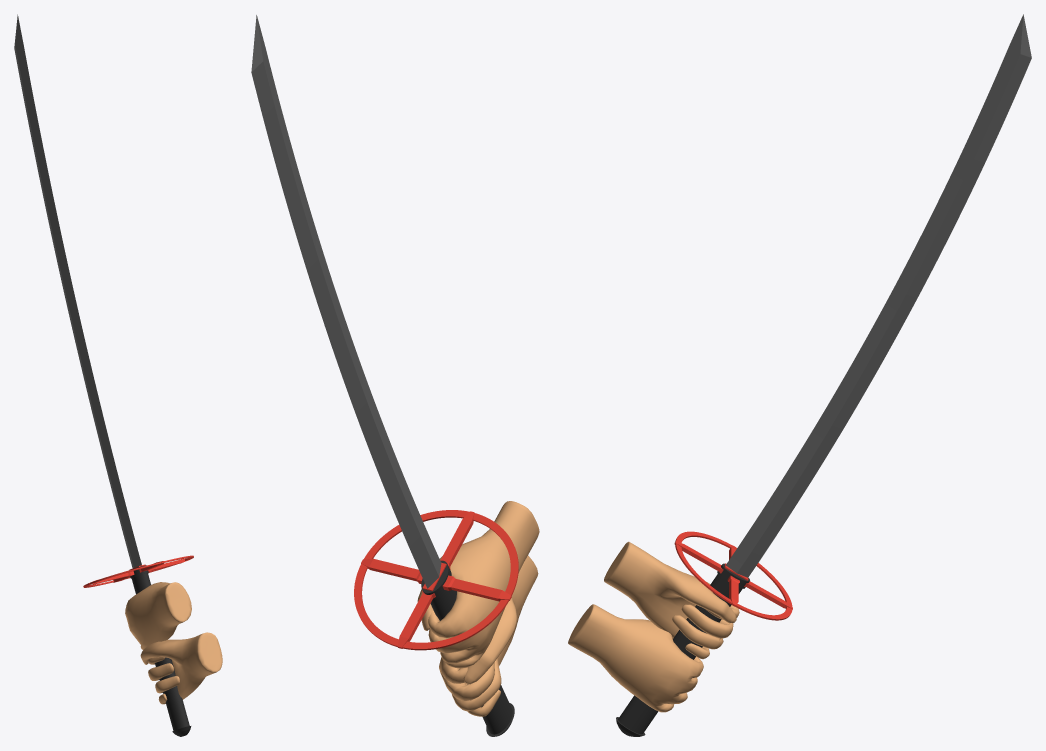
Rendered from Руки_катана.fbx.
3 views of the same model, side by side, from view 1: azimuth 30°, elevation 25°; view 2: azimuth 150°, elevation 25°; view 3: azimuth 270°, elevation 25° (orthographic). The views are drawn at different scales.
Parts seen in each view (by area): view 1: Plane, Рука_1.003, Рука_1; view 2: Plane, Рука_1, Рука_1.003; view 3: Plane, Рука_1.003, Рука_1.
Boxes of the visible parts, <box> form: Plane: <box>14,14,193,736</box>; Рука_1.003: <box>140,632,222,704</box>; Рука_1: <box>125,582,191,649</box>; Plane: <box>251,15,518,736</box>; Рука_1: <box>417,501,539,668</box>; Рука_1.003: <box>439,555,538,716</box>; Plane: <box>616,14,1031,736</box>; Рука_1.003: <box>568,604,703,712</box>; Рука_1: <box>604,541,739,659</box>.
Size of the model in its own units: 844 by 4870 by 2834.
